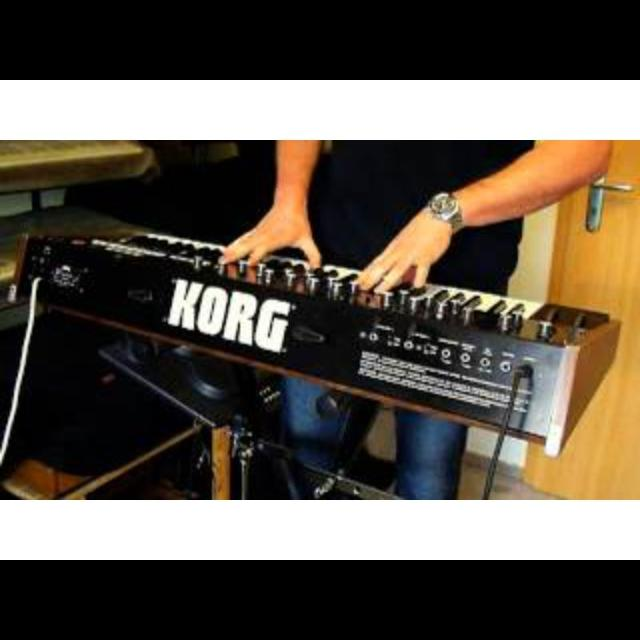Electronic-Keyboard: (19, 217, 624, 449)
